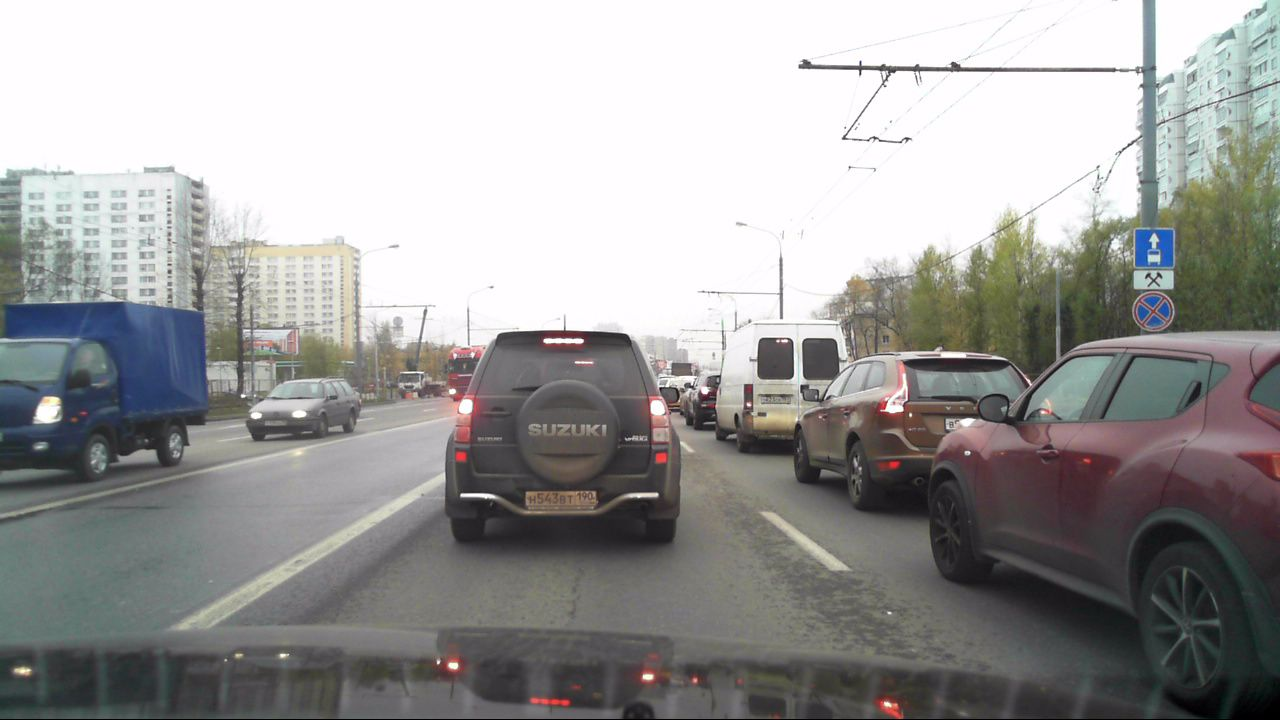No Parking: (1132, 292, 1175, 332)
